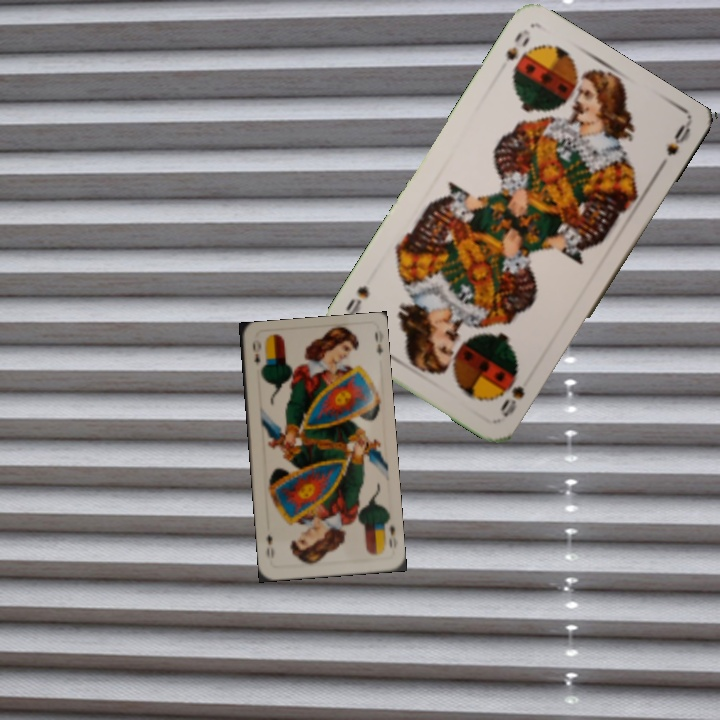EO: (380, 515, 397, 554), (248, 336, 264, 368)
SO: (496, 370, 528, 420), (502, 25, 533, 74)
